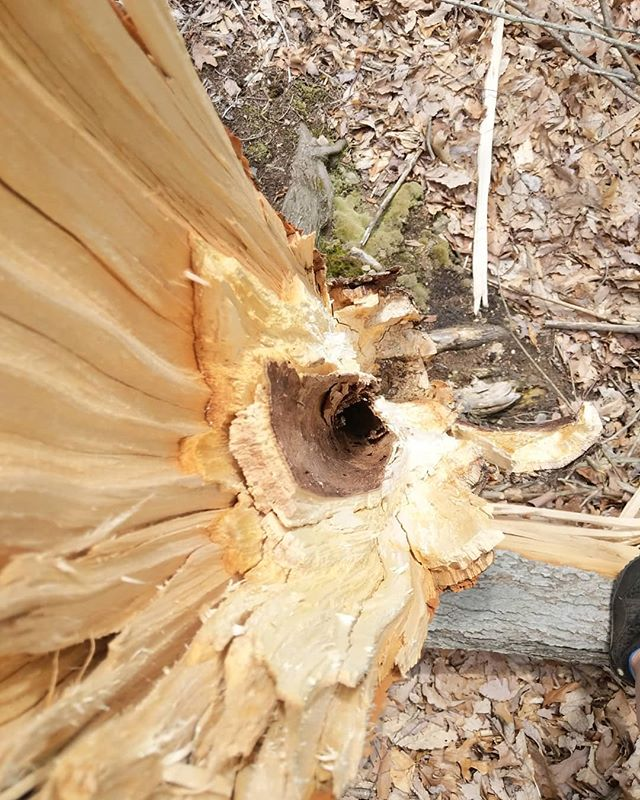tree trunk: (1, 126, 553, 781)
